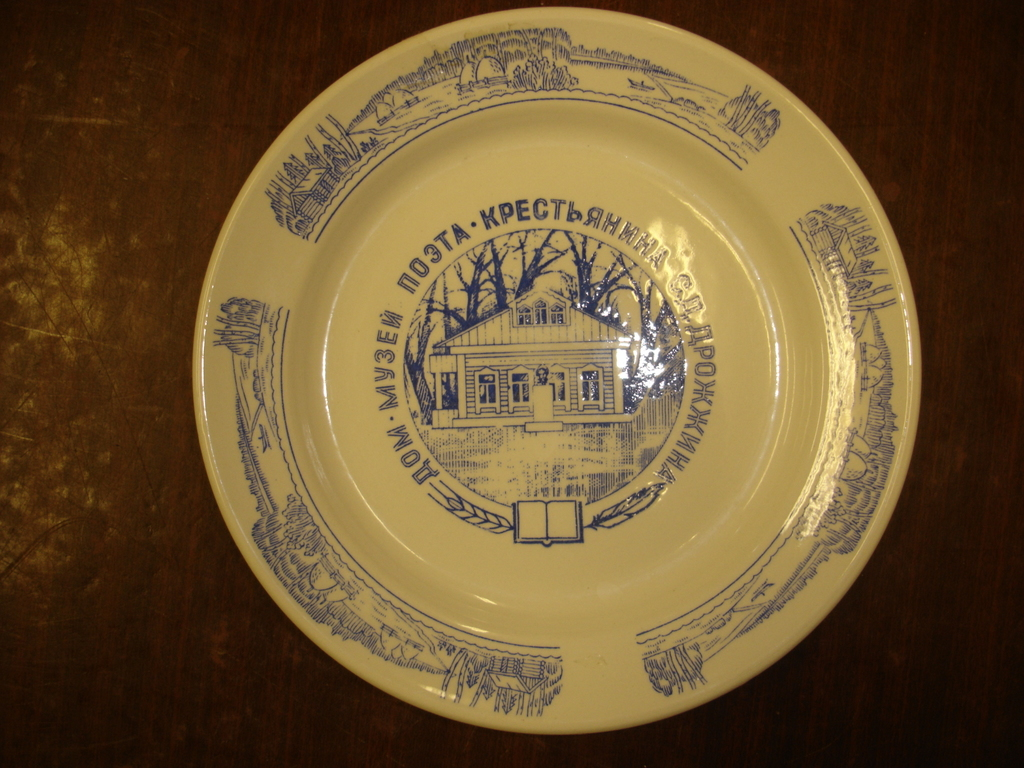plate: (191, 7, 921, 734)
